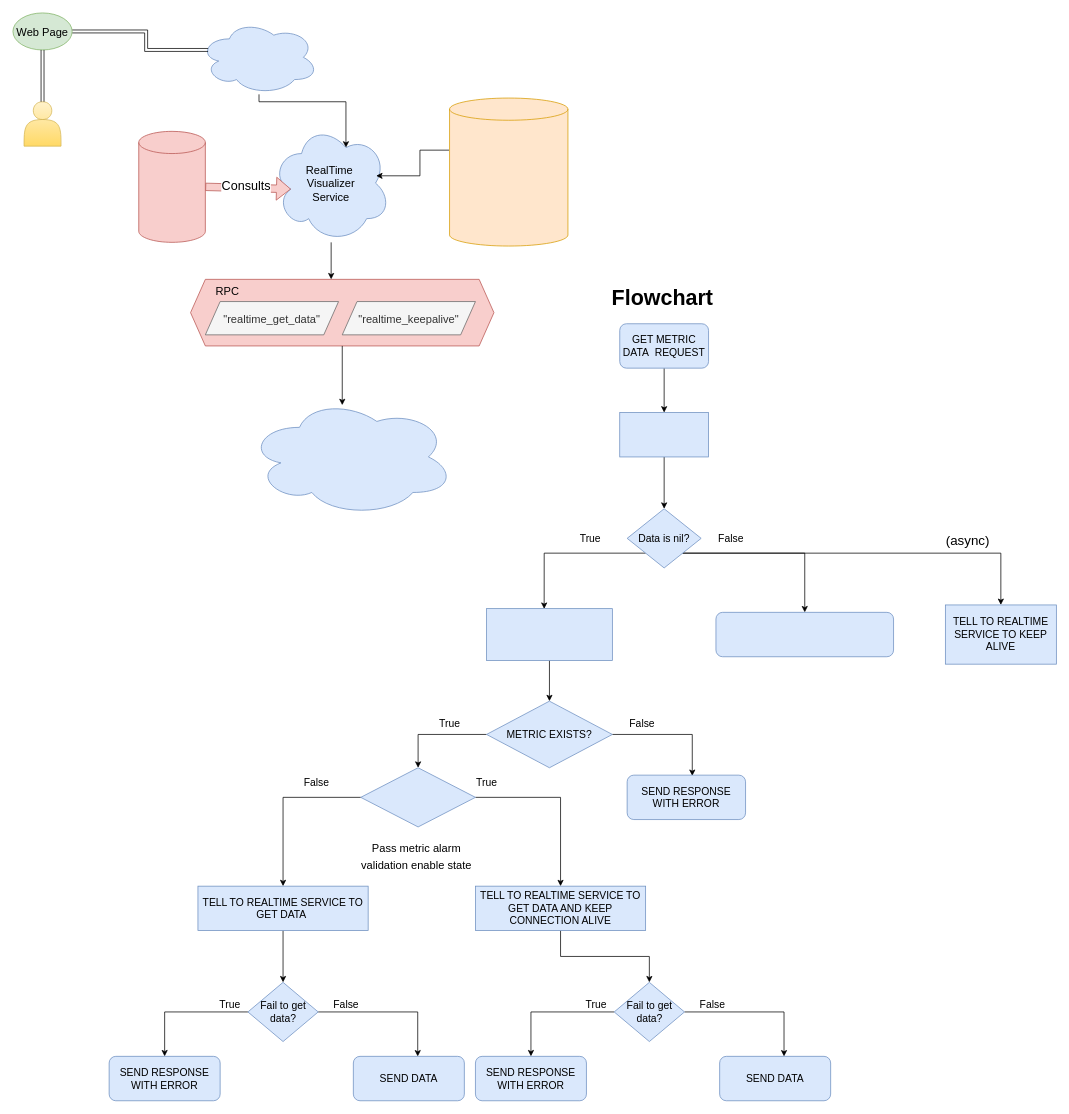
The diagram is 1069 pixels wide and 1114 high, and some of its shapes have lost their labels. Each missing label, with the centre of its shape:
"A Postgres Equipment Sensor Users" belongs at point 171,186.
"CHECK METRIC INFO ON POSTGRES SQL" belongs at point 549,634.
"CHECK REDIS" belongs at point 664,434.
"Macro Gateway" belongs at point 258,57.
"Metric has keep alive enabled?" belongs at point 417,797.
"RealTime Service" belongs at point 350,456.
"Redis" belongs at point 508,171.
"SEND RESPONSE WITH DATA" belongs at point 804,634.
